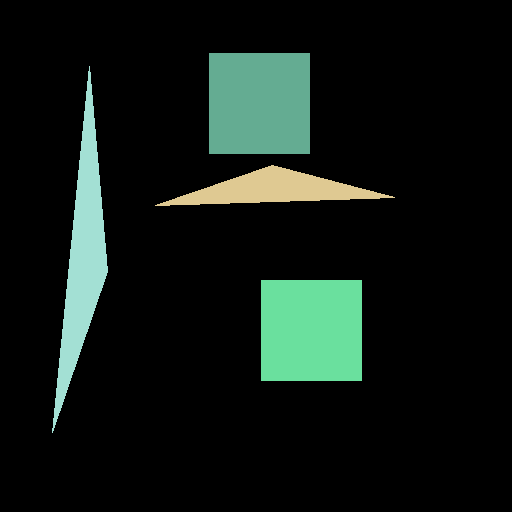square: (261, 280, 361, 380), (209, 53, 309, 153)
triangle: (52, 66, 107, 432), (155, 165, 394, 205)
